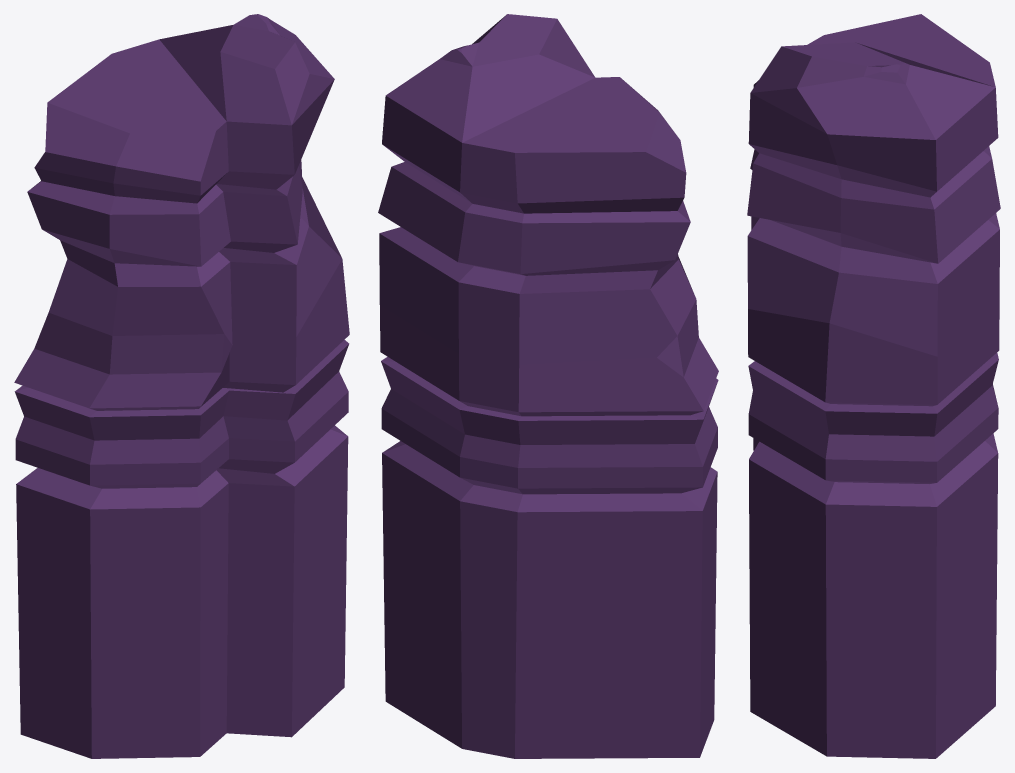
File: Rock_3.fbx
3 renders of one model, left to right at view 1: azimuth 30°, elevation 25°; view 2: azimuth 150°, elevation 25°; view 3: azimuth 270°, elevation 25°, orthographic. The views are drawn at different scales.
Parts seen in each view (by area): view 1: rock_model.025; view 2: rock_model.025; view 3: rock_model.025.
Part boxes in pixels (box(x1,y1,x2,y2)): rock_model.025: box(14, 14, 349, 758); rock_model.025: box(378, 14, 718, 758); rock_model.025: box(747, 14, 1000, 758).
Size of the model in its own units: 177 by 365 by 125.
